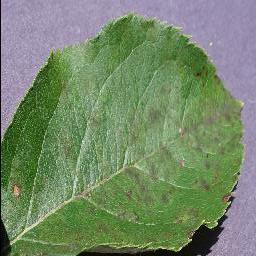apple healthy: (0, 11, 246, 255)
